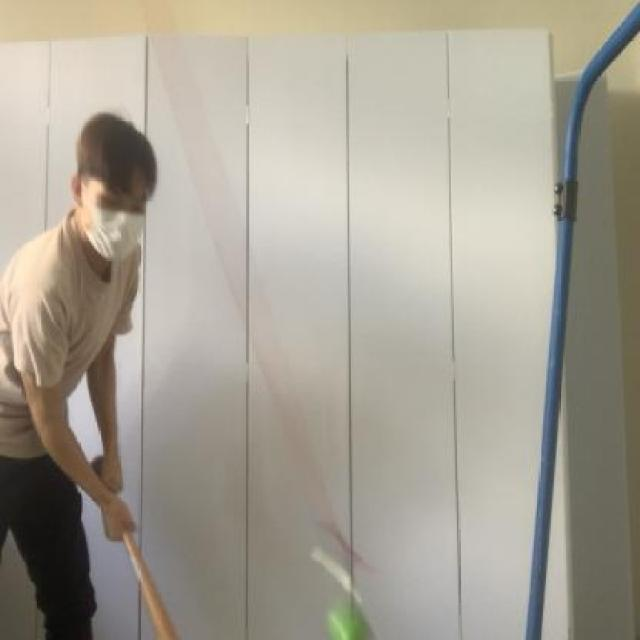baseball: (320, 591, 382, 640)
